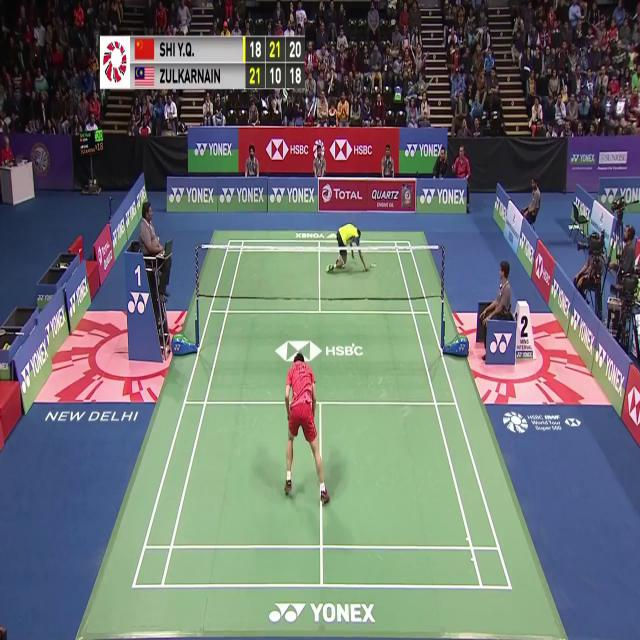Shuttlecock: (350, 339, 356, 351)
